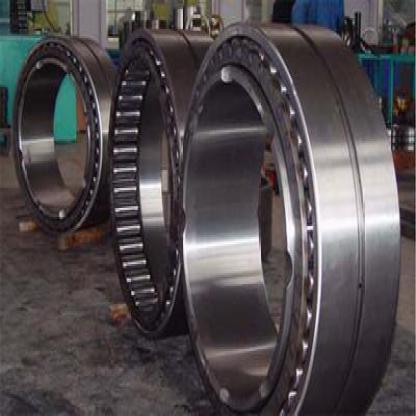FOD: (172, 16, 406, 414), (106, 20, 235, 351), (10, 33, 120, 244)
